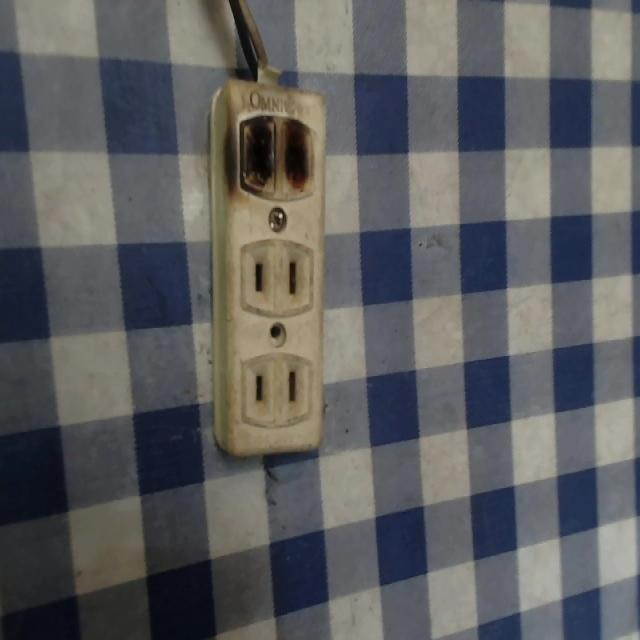-: (227, 105, 325, 196)
